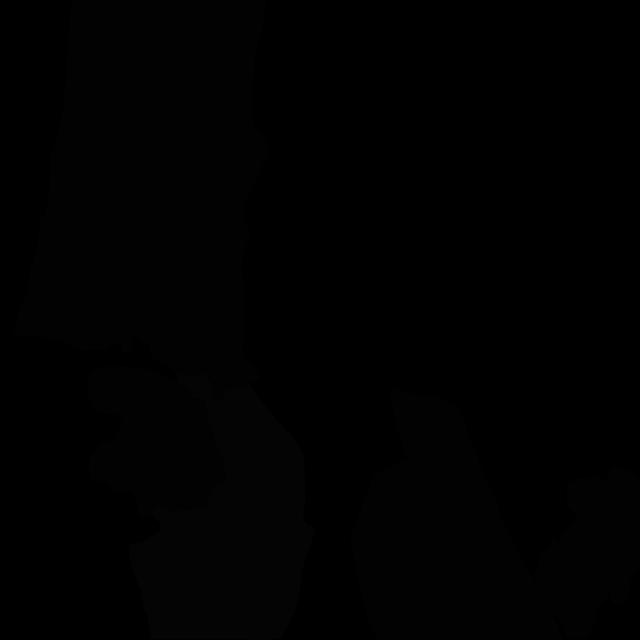cardboard: (12, 0, 268, 401), (350, 386, 563, 640), (87, 365, 226, 517), (532, 465, 640, 639)
soft_plastic: (129, 372, 315, 640)
